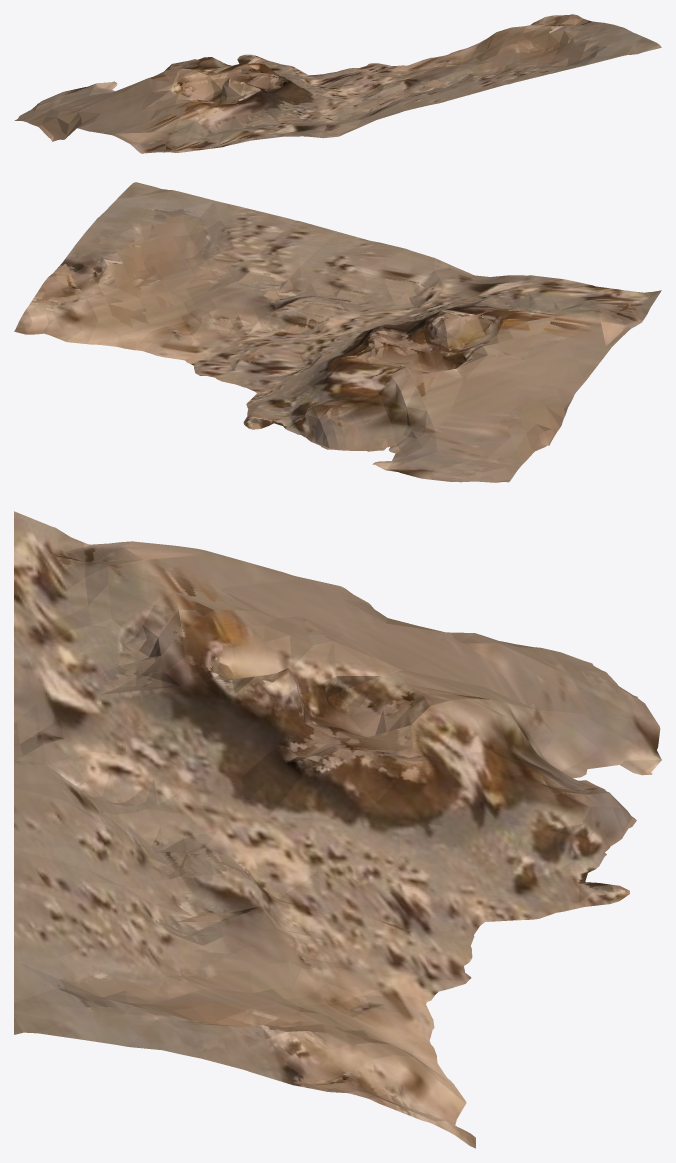
The picture shows the model from 3 angles, top to bottom: view 1: azimuth 30°, elevation 25°; view 2: azimuth 150°, elevation 25°; view 3: azimuth 270°, elevation 25°; orthographic projection. The views are drawn at different scales.
Bounding box in the file's own units: 1.04 × 0.1525 × 0.5893.
1 material, 1 textured.
